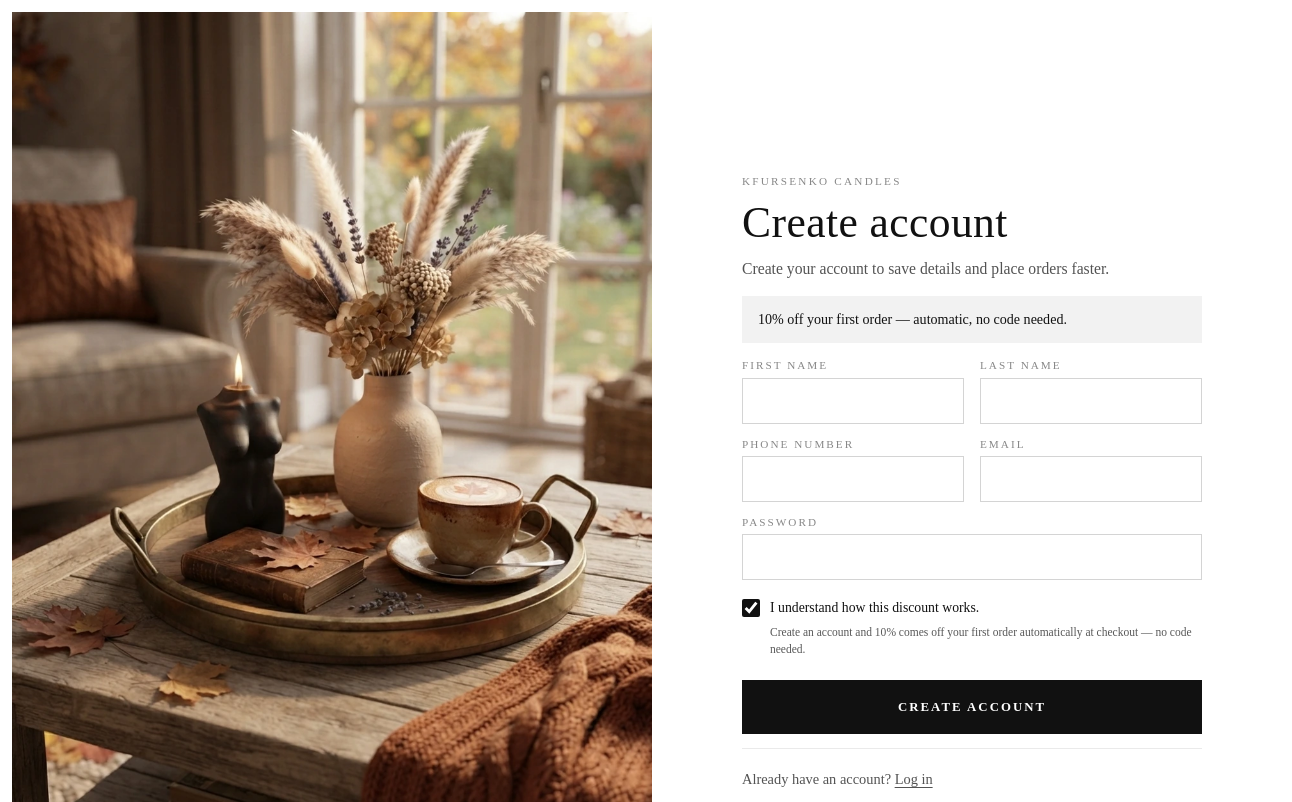
Test case: Register: accepting the sign-up discount's terms › an old version: shows the current terms, asks again, then signs up
Earlier steps of the test are not shown.
Type "Nina" into the field labelled "First name" at coordinates (853, 401), box [742, 378, 964, 424]
Type "New" into the field labelled "Last name" at coordinates (1091, 401), box [980, 378, 1202, 424]
Type "+1 555 0100" into the field labelled "Phone number" at coordinates (853, 479), box [742, 456, 964, 502]
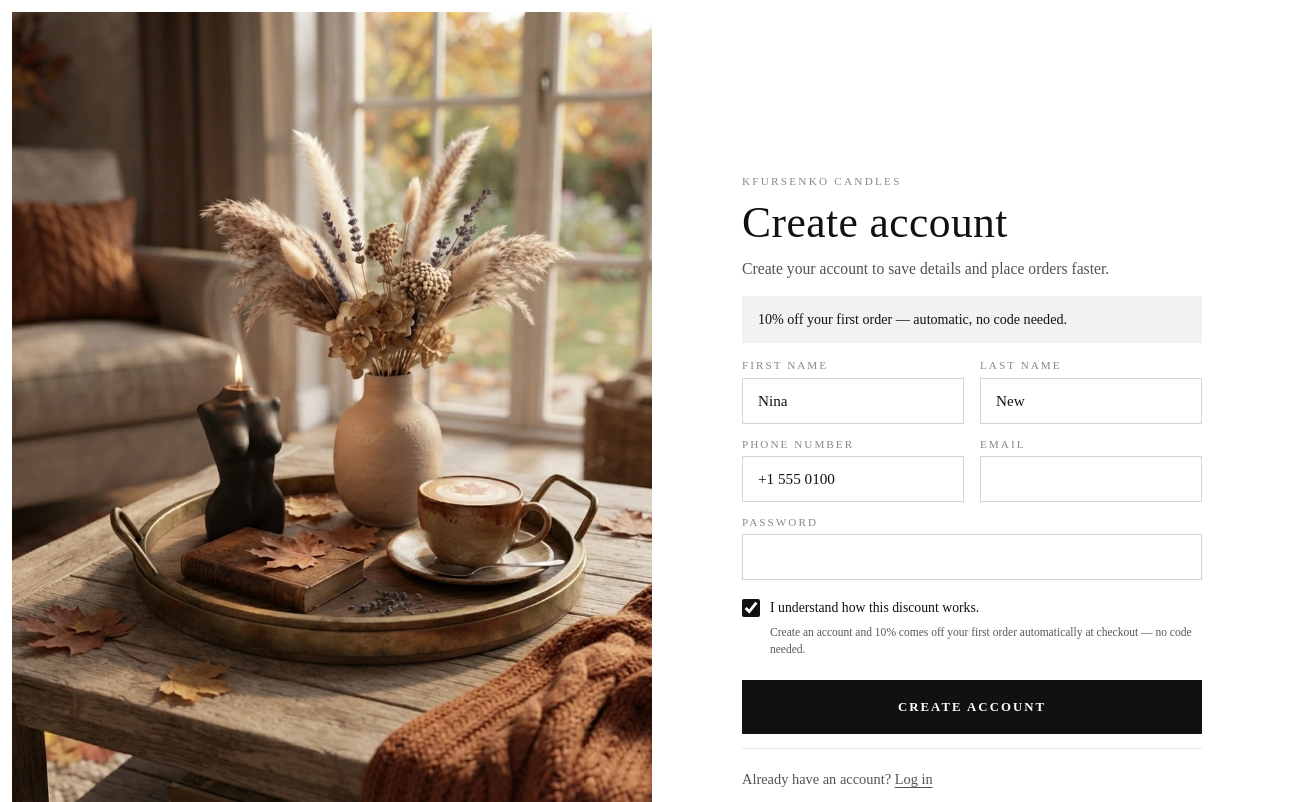
Type "nina@example.test" into the field labelled "Email" at coordinates (1091, 479), box [980, 456, 1202, 502]
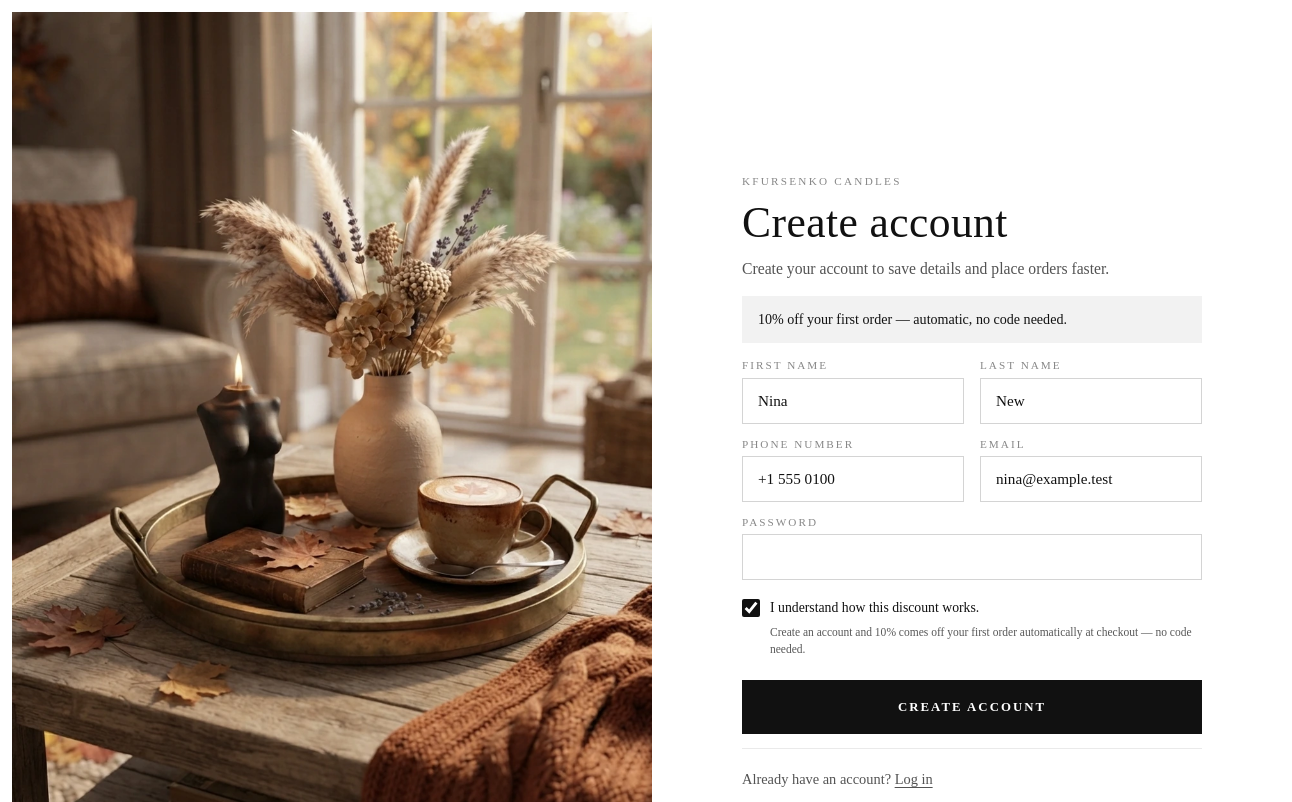
Type "testpass123" into the password field labelled "Password" at coordinates (972, 557), box [742, 534, 1202, 580]
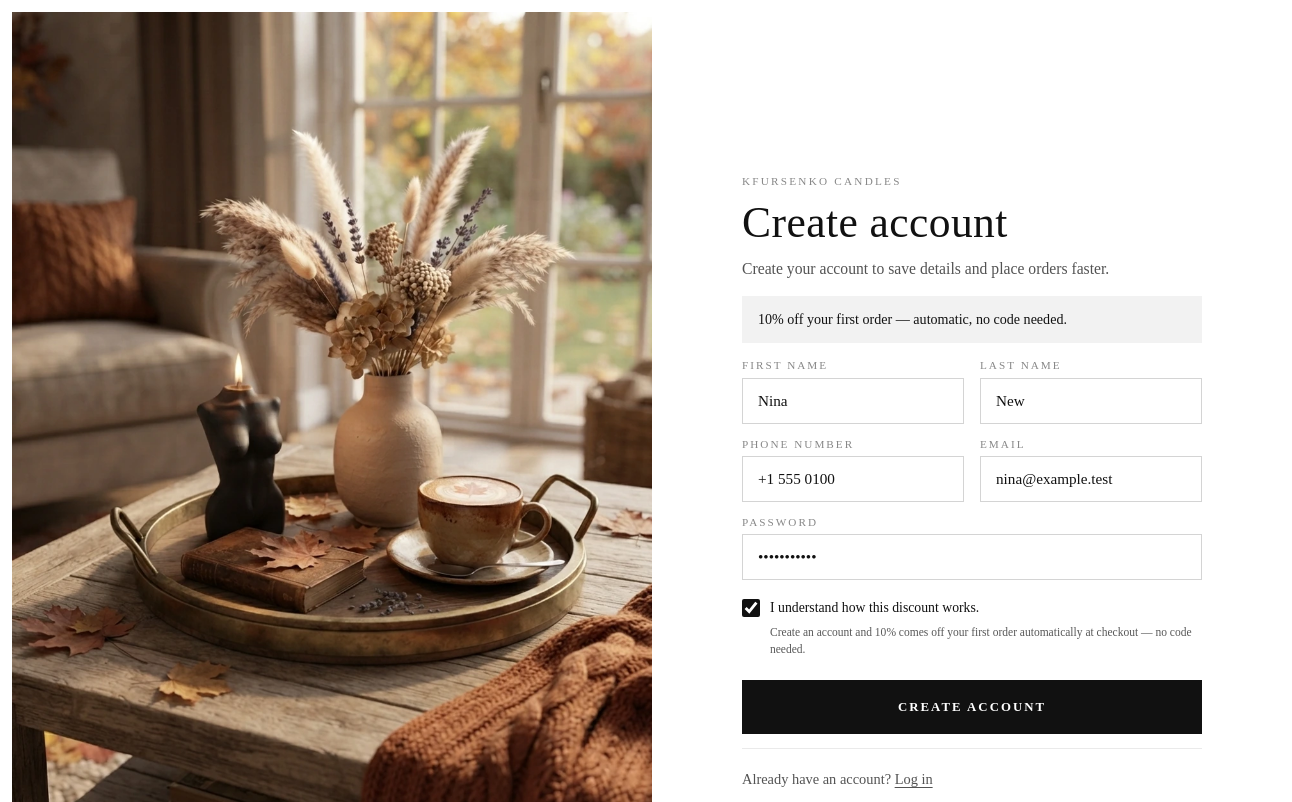
Click the button "Create account" at coordinates (972, 707), box [742, 680, 1202, 734]
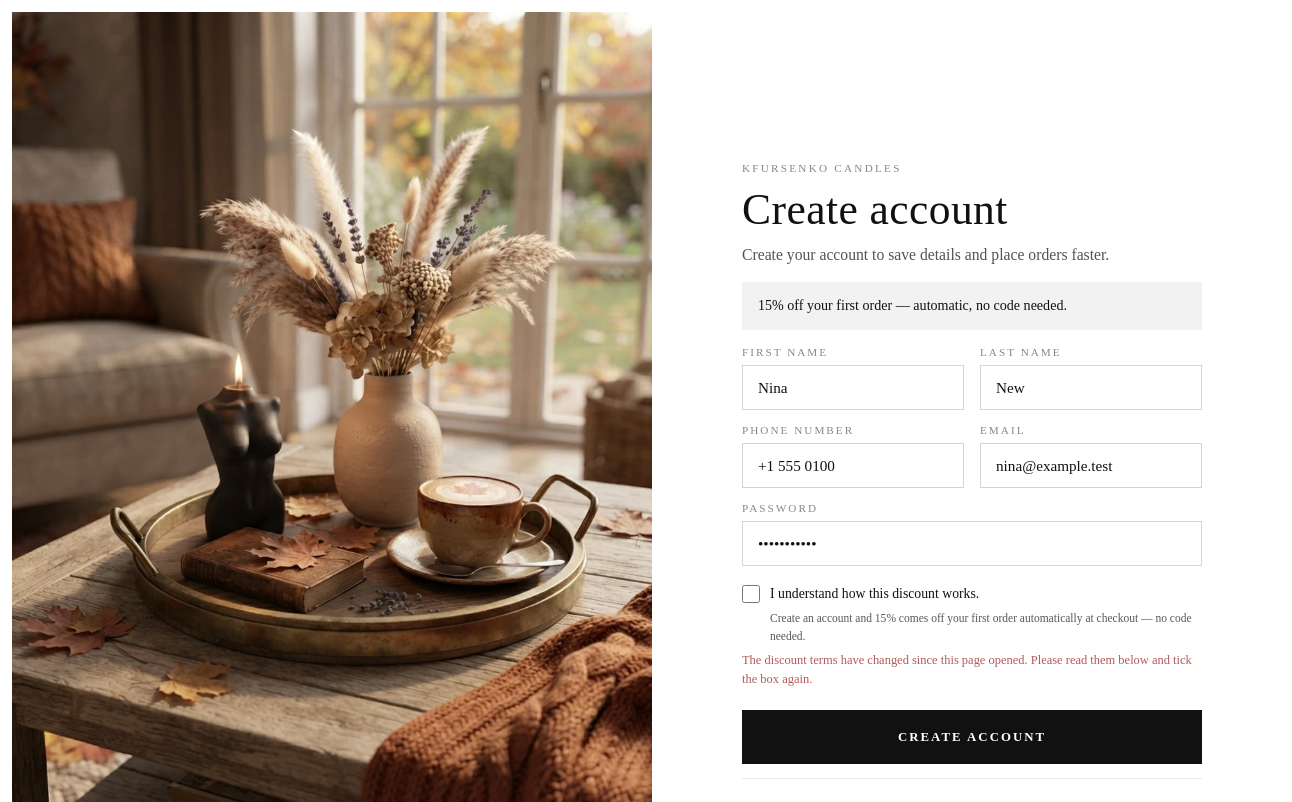
Result: the text "The discount terms have changed" is shown at [742, 653, 1192, 686]
Result: the text "Create an account and 15% comes off your first order automatically at checkout — no code needed." is shown at [770, 612, 1192, 642]
Result: the text "Create an account and 10% comes off your first order automatically at checkout — no code needed." is gone
Click the checkbox labelled "I understand how this discount works." at coordinates (751, 594), box [742, 585, 760, 603]
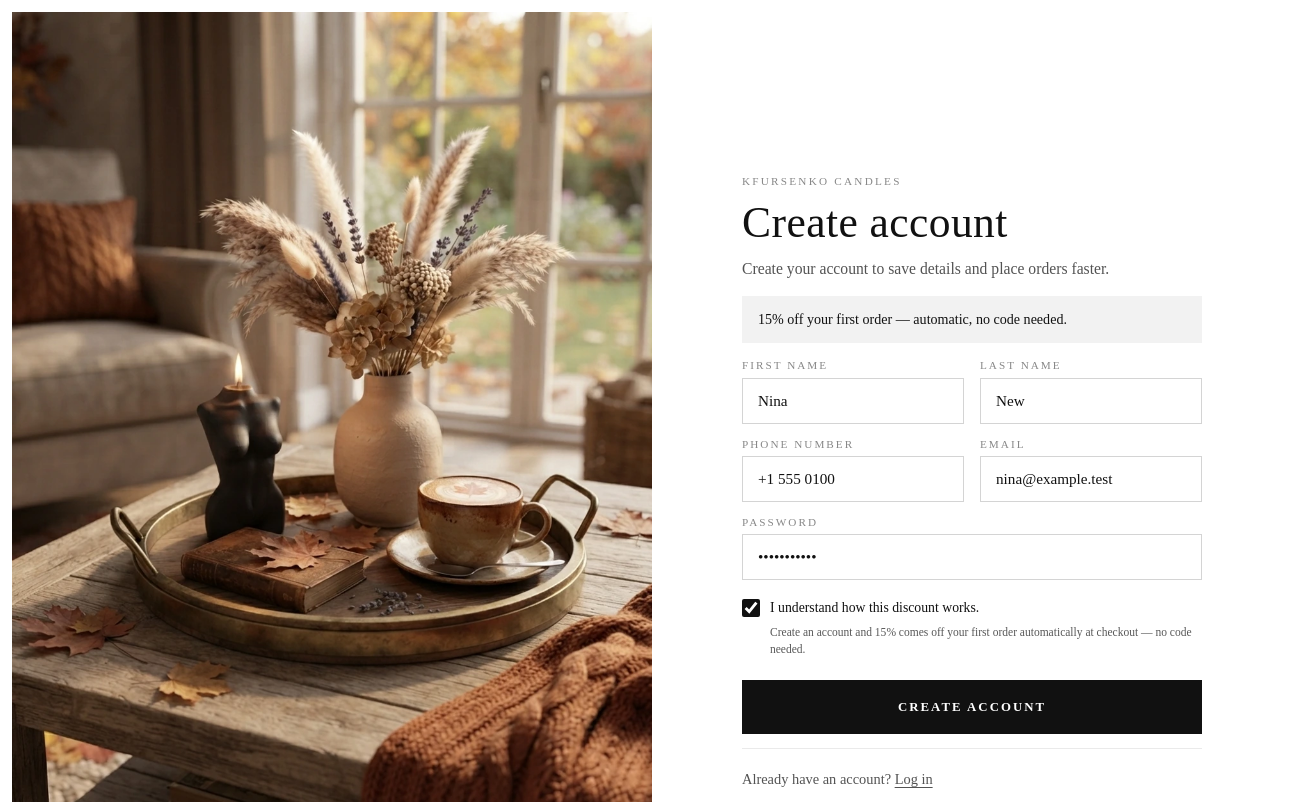
Click the button "Create account" at coordinates (972, 707), box [742, 680, 1202, 734]
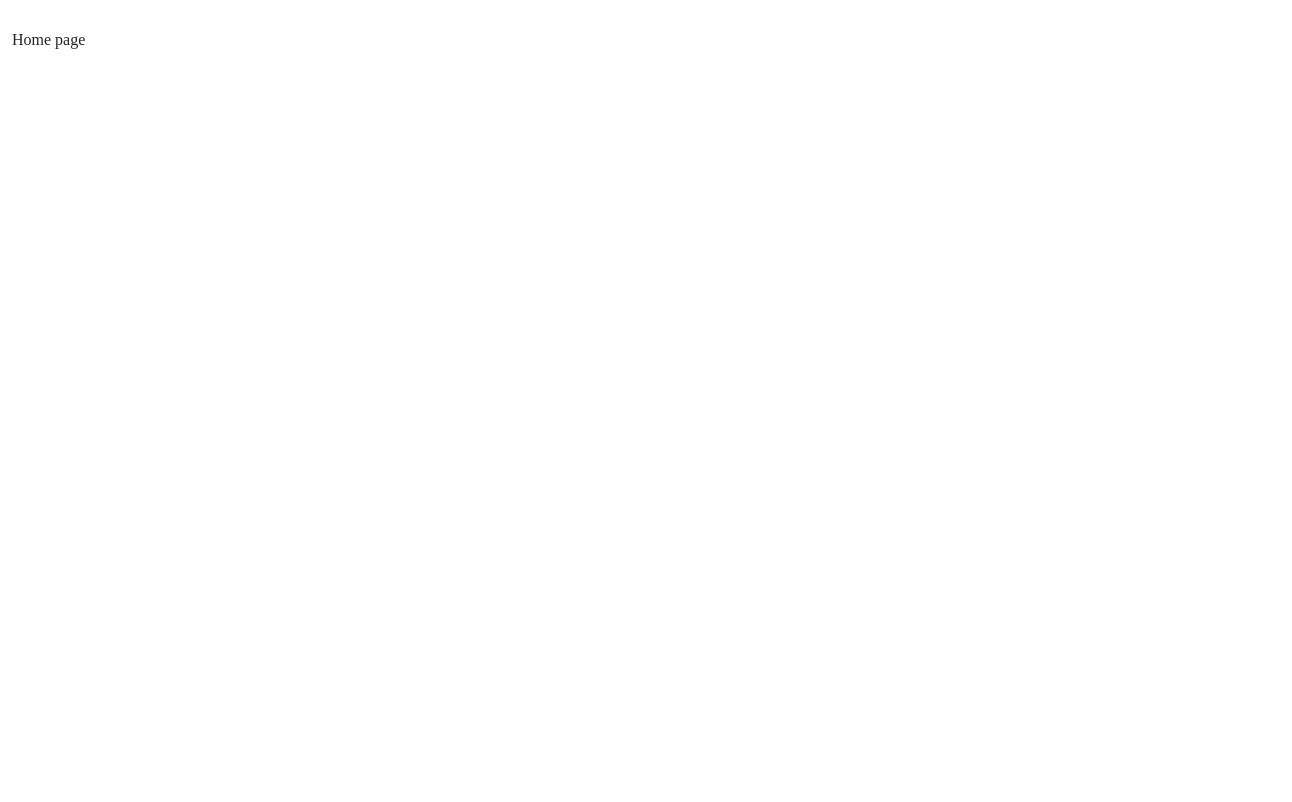
Result: the text "Home page" is shown at [12, 31, 85, 48]
